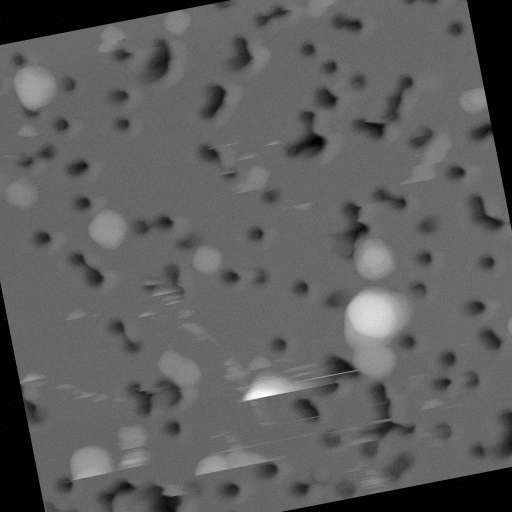Hole: (292, 31, 379, 111), (270, 100, 337, 168), (176, 68, 242, 126), (393, 0, 472, 48), (362, 378, 414, 446), (465, 392, 511, 467), (428, 342, 489, 398), (457, 185, 511, 240), (376, 62, 424, 122), (131, 35, 180, 93), (61, 241, 108, 293), (127, 202, 179, 246), (360, 172, 408, 218), (329, 193, 377, 239), (138, 475, 199, 511), (343, 106, 394, 147), (218, 29, 258, 78), (101, 313, 144, 358), (242, 0, 300, 33), (208, 475, 260, 511), (14, 139, 61, 172), (95, 475, 137, 511), (60, 150, 103, 185), (323, 7, 373, 36), (468, 321, 507, 358), (408, 201, 444, 241), (456, 282, 493, 320), (99, 78, 140, 112), (103, 107, 141, 143), (242, 212, 275, 252), (19, 222, 61, 253), (153, 412, 190, 444), (324, 226, 353, 263), (291, 395, 323, 428), (242, 261, 273, 295), (427, 412, 458, 445), (283, 470, 311, 506), (410, 240, 442, 270), (288, 268, 317, 301), (252, 181, 290, 206), (22, 393, 49, 427), (473, 246, 503, 276), (42, 491, 87, 511), (65, 185, 95, 213), (261, 325, 288, 355), (401, 117, 427, 148), (318, 424, 346, 452), (405, 274, 431, 302), (48, 113, 77, 138), (56, 69, 81, 98), (0, 45, 31, 67), (470, 118, 493, 147), (442, 160, 465, 186), (195, 137, 218, 163), (257, 460, 281, 482), (0, 66, 3, 95)
Particle: (319, 270, 429, 388), (343, 228, 404, 289), (4, 59, 67, 118), (79, 198, 134, 256), (181, 232, 231, 283), (0, 170, 50, 219), (156, 344, 206, 393), (450, 75, 488, 121), (154, 7, 197, 41), (296, 0, 363, 19), (495, 298, 511, 348), (305, 458, 332, 487)
Smear: (212, 336, 336, 416), (184, 430, 293, 482), (388, 120, 466, 187), (208, 133, 278, 198), (54, 366, 130, 420), (51, 435, 118, 486), (171, 303, 219, 348), (346, 455, 400, 493), (139, 269, 184, 304), (110, 413, 151, 451), (91, 19, 136, 53), (114, 443, 158, 476), (58, 298, 103, 325), (16, 360, 52, 391), (345, 418, 378, 449), (276, 197, 320, 213), (415, 390, 445, 410), (14, 119, 41, 140), (132, 306, 162, 322), (0, 125, 3, 150)
